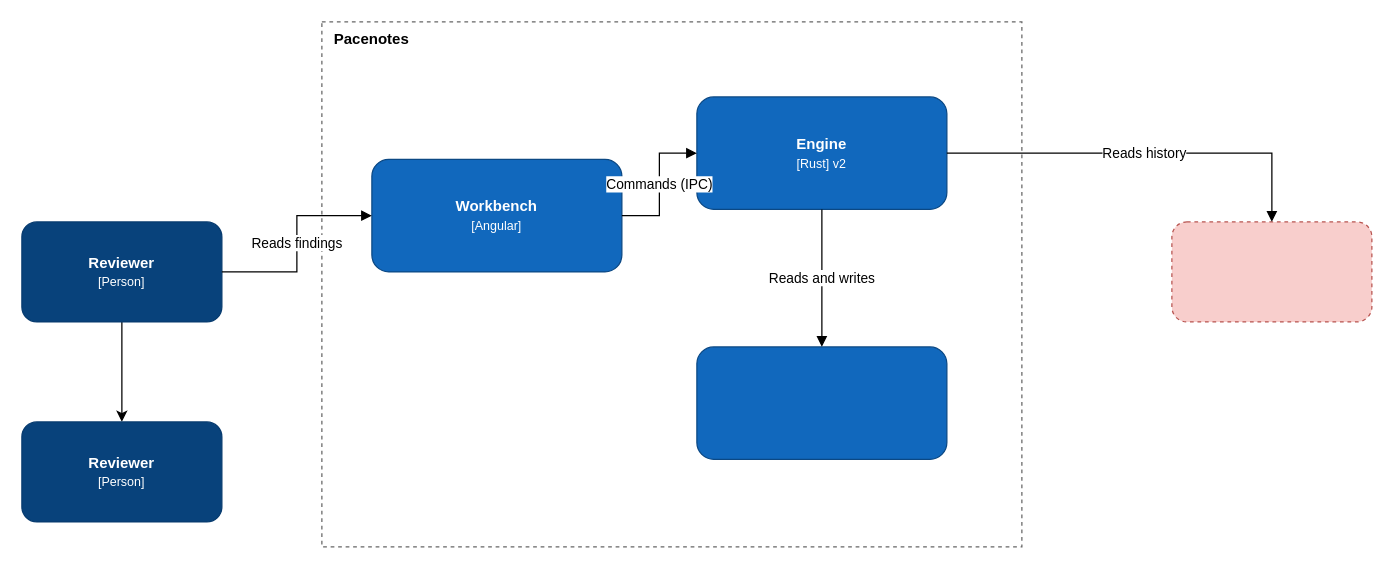
Some shapes in this 1394 by 569 pixel diagram are drawn without their labels. The shapes that lost their labels are listed below. From the top down, each one's centre as x and y in pixels, then its label:
At pixel 1271 271: "Git repository [External]".
At pixel 821 402: "Index store [DuckDB]".
